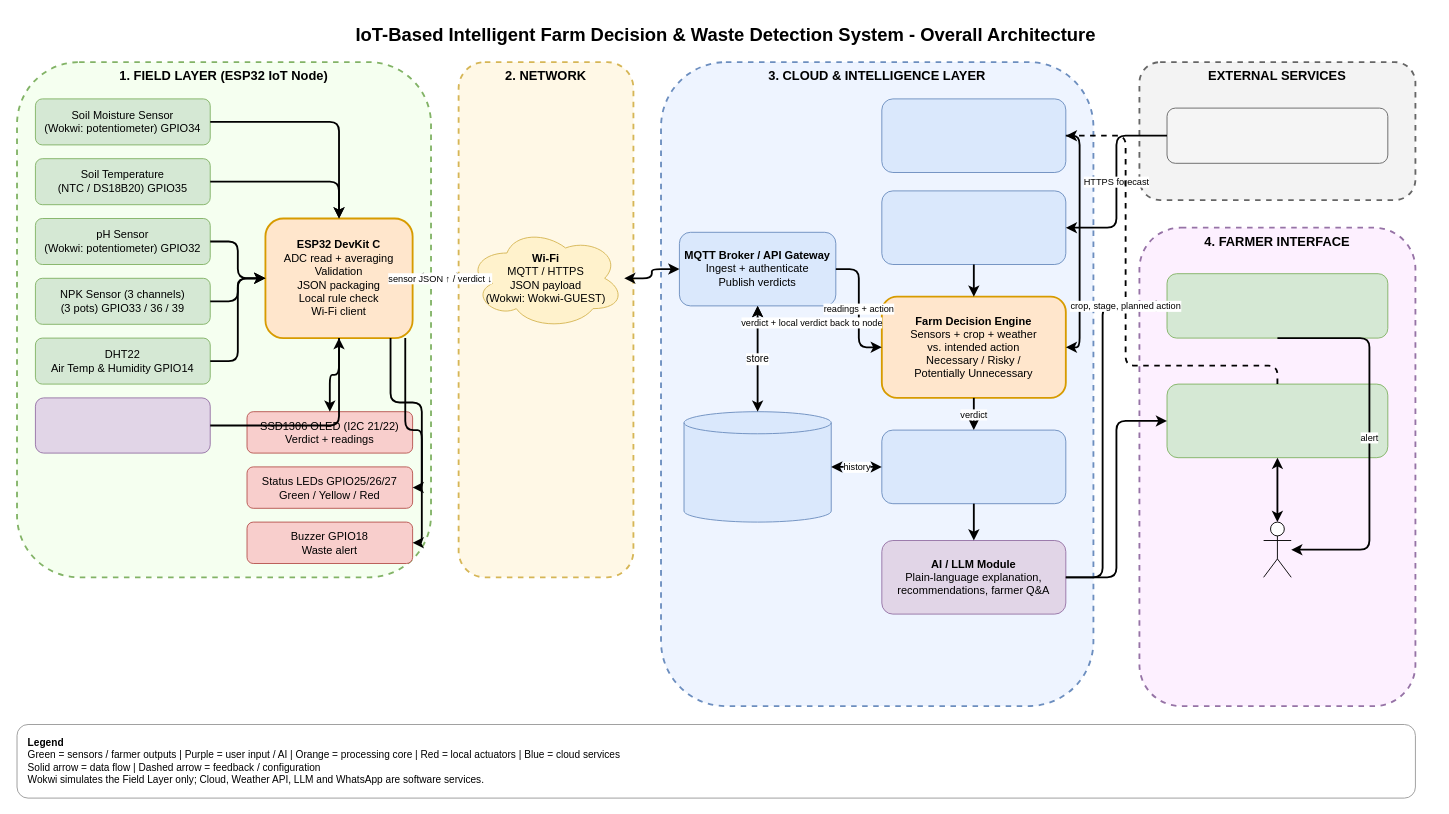
This 1449x814 diagram has some shape labels left out. The centre of each missing label's shape, as x and y in pixels:
Cloud Database Sensor readings Farm info Decision history: point (757, 466)
Farm & Crop Info Module Crop type, growth stage, field, planned activity: point (973, 135)
Farmer: point (1277, 549)
Planned Action Buttons Irrigate / Fertilize / Spray GPIO16 / 4 / 17: point (122, 425)
Waste & Cost Estimation Water / chemical / fertilizer Input cost, avoidable cost: point (973, 466)
Weather API (e.g. Open-Meteo): point (1277, 135)
Weather Intelligence Module Rain forecast, temp, humidity, conditions: point (973, 227)
Web / Mobile Dashboard Live data, history, recommendations, action input: point (1277, 420)
WhatsApp Alerts (WhatsApp Cloud API / Twilio): point (1277, 305)
